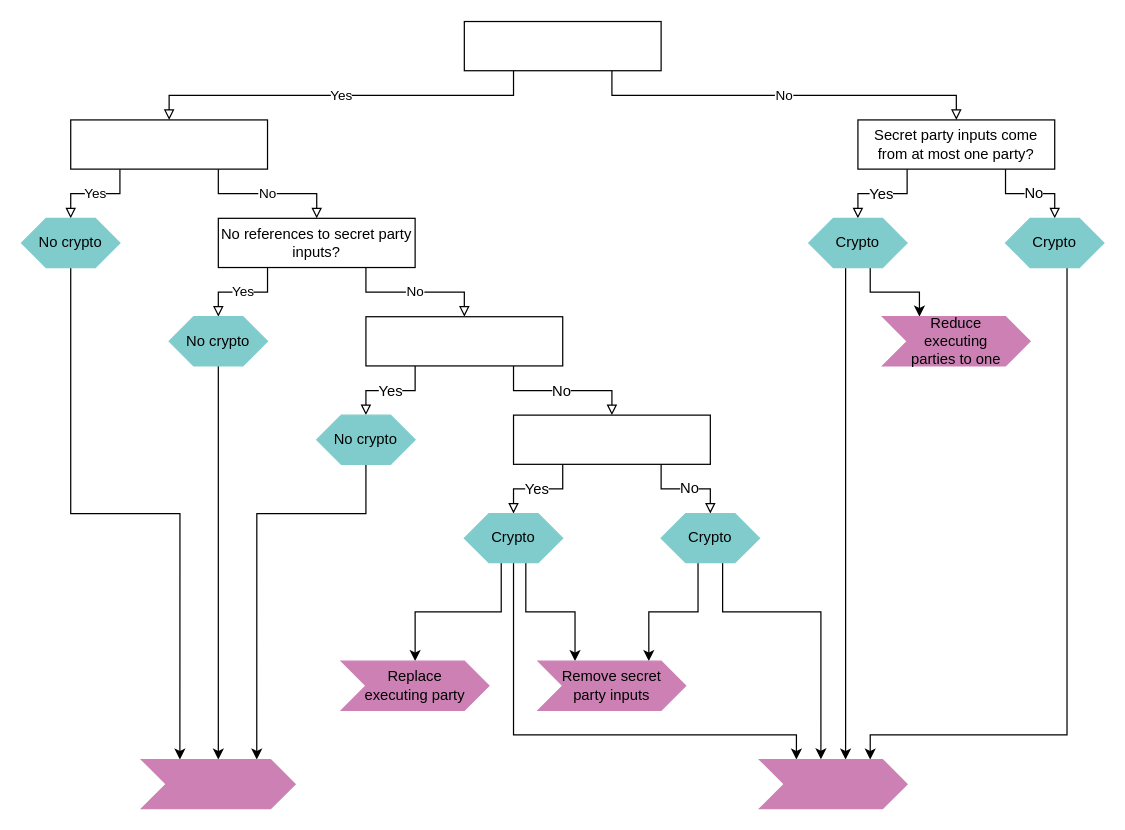
Image size: 1125x830. Some labels were removed from this diagram. The centre of each missing label's shape, as x and y in pixels:
Add crypto modifier: the point at 832,783
No references to party inputs?: the point at 168,144
Only one executing party?: the point at 562,45
Remove crypto modifier: the point at 217,783
Secret party inputs come from executing party?: the point at 464,340
Secret party inputs come from only one party?: the point at 611,439
